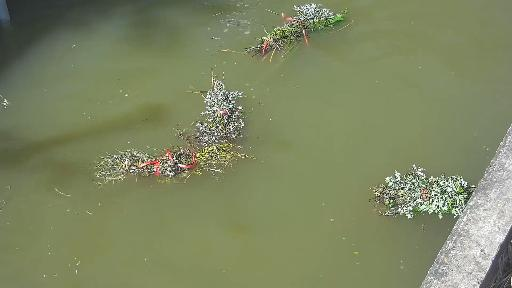twig: (82, 134, 271, 193), (234, 0, 363, 55), (370, 167, 476, 216), (188, 84, 269, 139)
